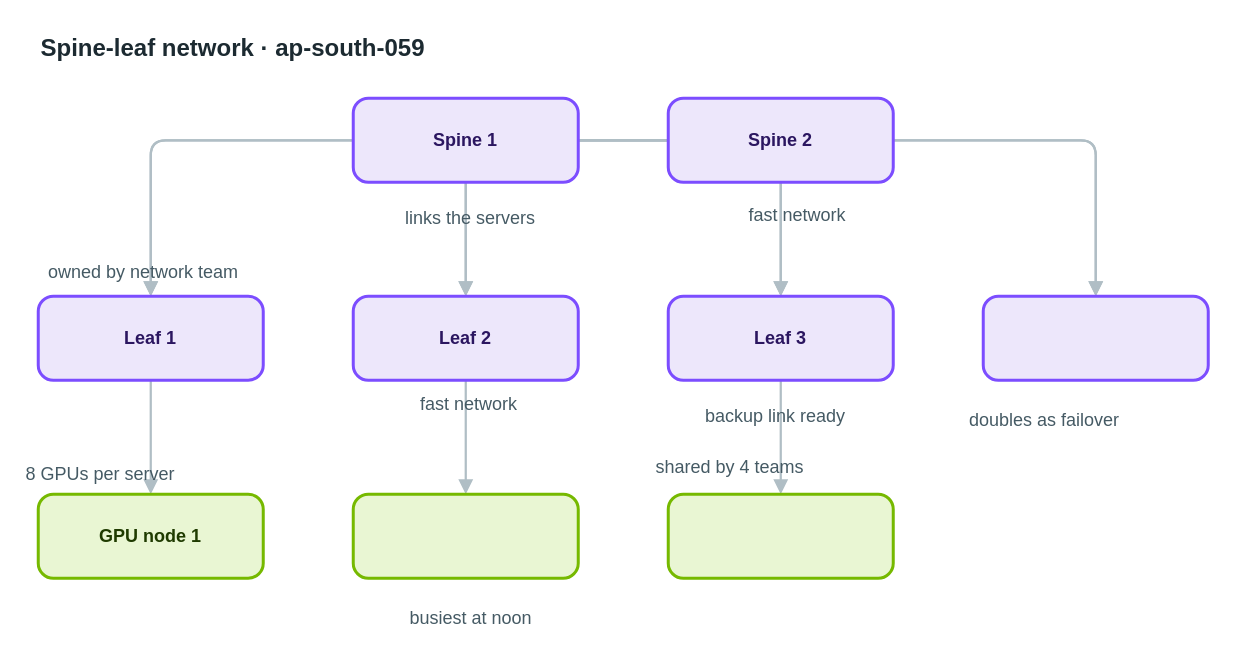
The diagram is 1235 pixels wide and 656 high, and some of its shapes have lost their labels. Each missing label, with the box of its shape:
GPU node 2: (351, 492, 579, 579)
GPU node 3: (666, 492, 894, 579)
Leaf 4: (981, 294, 1209, 381)
